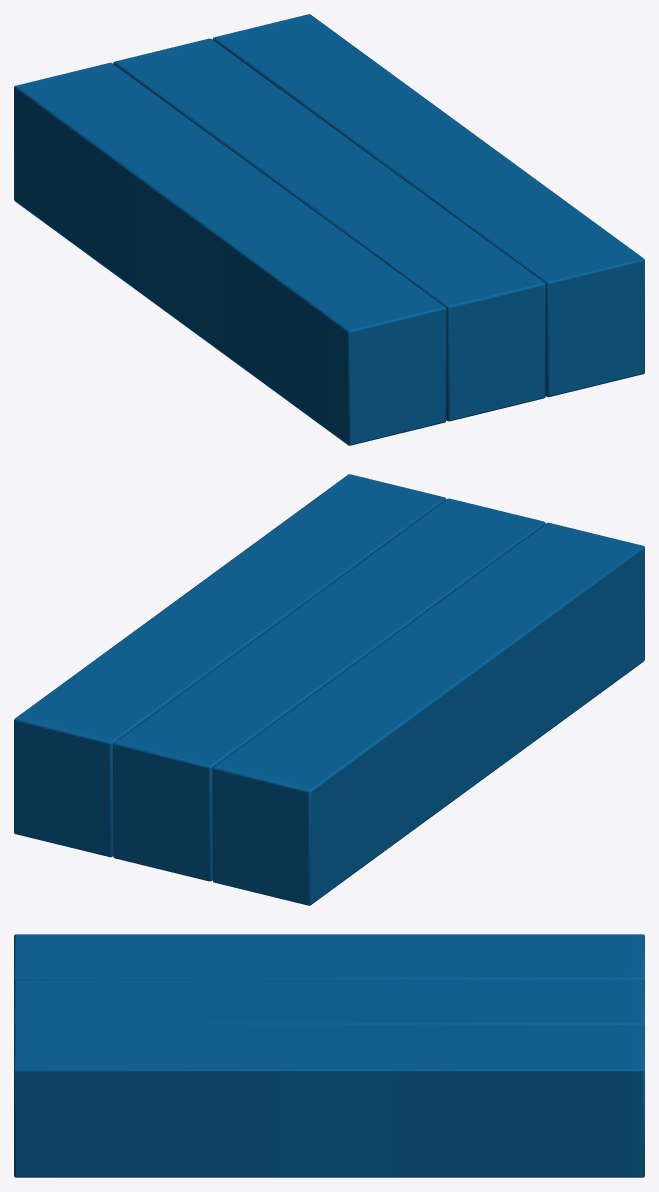
Rendered from 12-right-toy-leg-course-3.fbx.
3 renders of one model, top to bottom at view 1: azimuth 30°, elevation 25°; view 2: azimuth 150°, elevation 25°; view 3: azimuth 270°, elevation 25°, orthographic. The views are drawn at different scales.
Parts seen in each view (by area): view 1: right-toy-leg-course-3; view 2: right-toy-leg-course-3; view 3: right-toy-leg-course-3.
Part boxes in pixels (box(x1,y1,x2,y2)): right-toy-leg-course-3: box(14, 14, 644, 445); right-toy-leg-course-3: box(14, 474, 644, 905); right-toy-leg-course-3: box(14, 934, 644, 1177).
Bounding box in the file's own units: 4085 × 1520 × 8000.
1 material, 1 textured.
